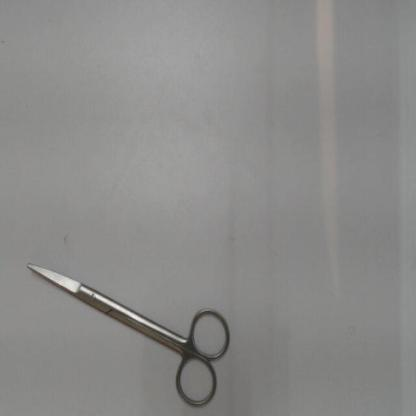Curved Mayo Scissors: (20, 258, 238, 414)
